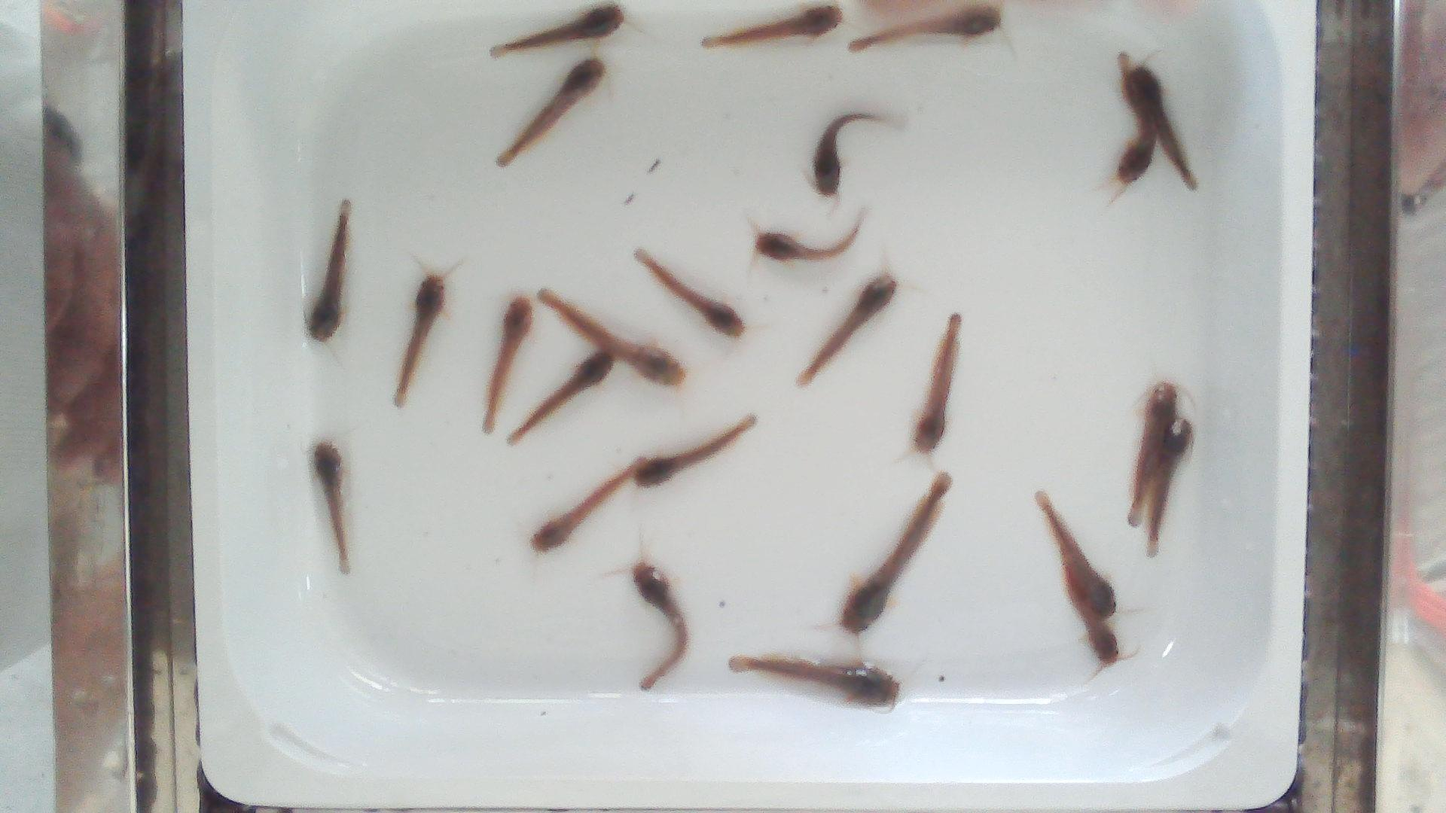lele: (840, 473, 950, 634), (539, 291, 685, 385), (497, 57, 606, 166), (798, 273, 897, 385), (528, 459, 645, 552), (1034, 496, 1118, 619), (1128, 58, 1200, 193), (635, 248, 744, 336), (510, 350, 613, 443), (730, 655, 899, 707), (635, 414, 758, 483), (1060, 548, 1122, 670), (1127, 381, 1179, 526), (633, 561, 688, 690), (1143, 419, 1193, 558), (912, 313, 961, 453), (849, 5, 1001, 50), (483, 296, 532, 433), (493, 5, 624, 56), (394, 273, 444, 406), (1115, 51, 1162, 184), (306, 200, 350, 341), (813, 112, 885, 195), (703, 5, 842, 47), (755, 211, 863, 261), (313, 441, 349, 574)
